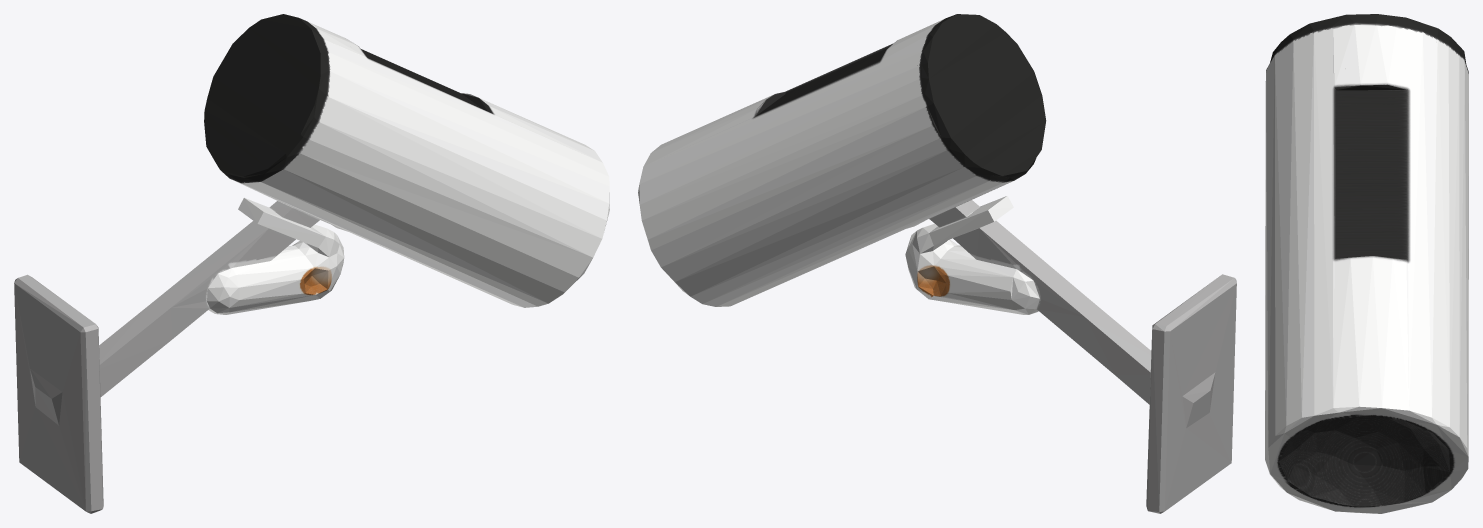
The model's file is kamera.obj.
3 renders of one model, left to right at view 1: azimuth 30°, elevation 25°; view 2: azimuth 150°, elevation 25°; view 3: azimuth 270°, elevation 25°, orthographic. The views are drawn at different scales.
Visible parts, largest first — view 1: 282397_23_05_24_18_27_55_0; view 2: 282397_23_05_24_18_27_55_0; view 3: 282397_23_05_24_18_27_55_0.
Boxes of the visible parts, x1,y1,x2,y2 form: 282397_23_05_24_18_27_55_0: (14,14,609,513); 282397_23_05_24_18_27_55_0: (638,14,1236,513); 282397_23_05_24_18_27_55_0: (1265,14,1468,513).
Bounding box in the file's own units: 17.82 × 12.73 × 4.97.
1 material, 1 textured.
